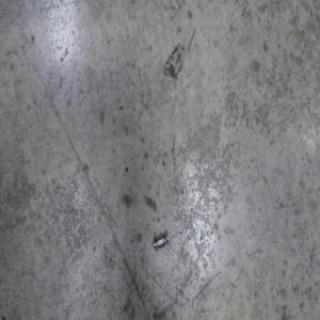Bolttrack_idkeyframe: (152, 230, 169, 252)
